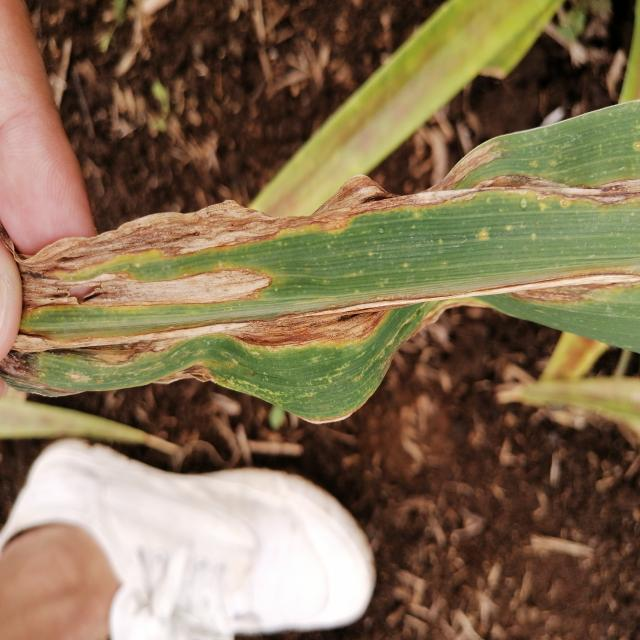Corn_Leaf_Blight: (52, 165, 640, 425)
